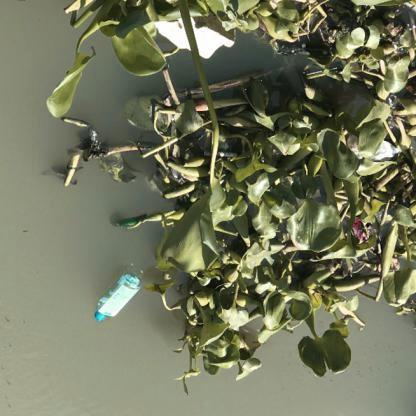Glass: (90, 271, 143, 325)
Trash: (140, 9, 240, 58)
